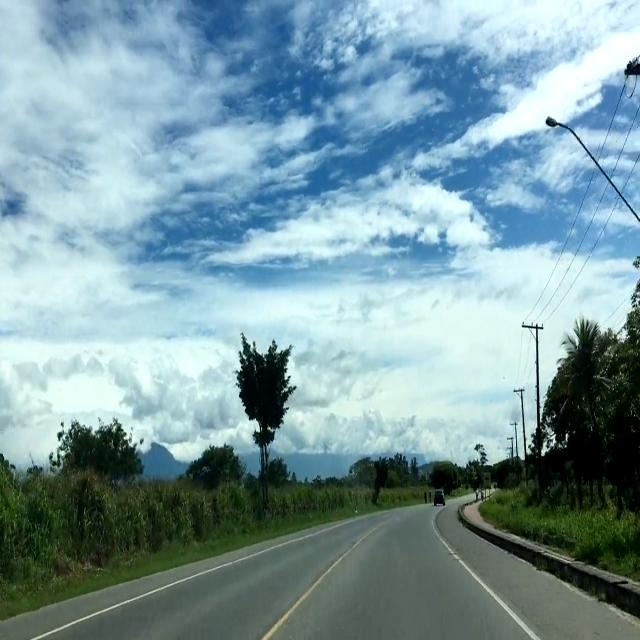lane: (30, 532, 318, 639), (432, 514, 545, 640), (256, 532, 372, 640)
road: (0, 500, 640, 640)
